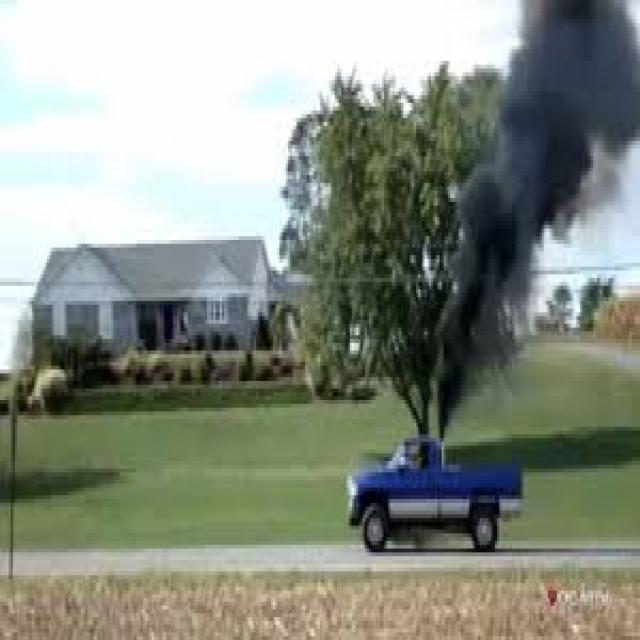Smoke: (437, 0, 640, 437)
